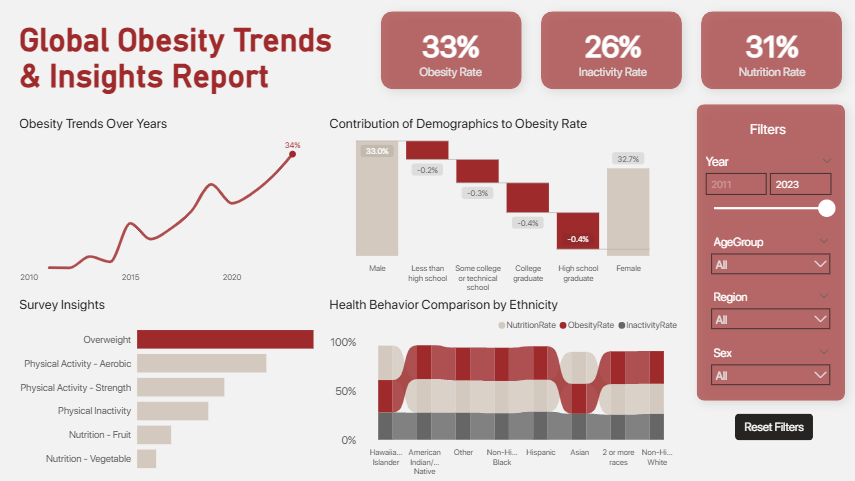

This screenshot's page, from the dashboard's own definition file:
{"tool":"powerbi","page":{"name":"Report","canvas":[1280,720],"ordinal":0},"visuals":[{"type":"shape","box":[1019.8,138,260.1,480.5],"z":0},{"type":"shape","box":[550.3,0.7,249,155.4],"z":1000},{"type":"shape","box":[788.7,0.7,249,155.4],"z":2000},{"type":"shape","box":[1027.2,0.7,249,155.4],"z":4000},{"type":"card","fields":{"Values":["_Measures.ObesityRate"]},"box":[584,29.2,179.2,98.3],"z":5000},{"type":"card","fields":{"Values":["_Measures.InactivityRate"]},"box":[825.1,29.2,179.2,98.3],"z":6000},{"type":"card","fields":{"Values":["_Measures.NutritionRate"]},"box":[1061.4,29.2,179.2,98.3],"z":7000},{"type":"lineChart","title":"Obesity Trends Over Years","fields":{"Y":["_Measures.ObesityRate","_Measures.MaxObesity"],"Category":["obesity_data.Year"]},"box":[27,174.5,461.5,256.9],"z":9000},{"type":"clusteredBarChart","title":"Survey Insights","fields":{"Category":["obesity_data.Category"],"Y":["Sum(obesity_data.Data_Value)"]},"box":[27,444.1,461.5,276],"z":10000},{"type":"waterfallChart","title":"Contribution of Demographics to Obesity Rate","fields":{"Category":["obesity_data.Sex"],"Y":["_Measures.ObesityRate"],"Breakdown":["obesity_data.Education"]},"box":[488.3,174.3,516.8,270.4],"z":11000},{"type":"slicer","fields":{"Values":["obesity_data.Region"]},"box":[1051.5,430.7,196.7,82.5],"z":12000},{"type":"slicer","fields":{"Values":["obesity_data.Sex"]},"box":[1051.5,513.2,196.7,82.5],"z":13000},{"type":"slicer","fields":{"Values":["obesity_data.Year"]},"box":[1040.7,226.2,214.1,161.8],"z":14000},{"type":"slicer","fields":{"Values":["obesity_data.AgeGroup"]},"box":[1051.5,348.2,196.7,82.5],"z":15000},{"type":"textbox","box":[1109,174.1,74.6,49.7],"z":16000},{"type":"textbox","box":[26.5,0,507.2,174.1],"z":18000},{"type":"ribbonChart","title":"Health Behavior Comparison by Ethnicity","fields":{"Category":["obesity_data.Race/Ethnicity"],"Y":["_Measures.NutritionRate","_Measures.ObesityRate","_Measures.InactivityRate"]},"box":[488.3,443.2,531.9,276.4],"z":19000},{"type":"actionButton","box":[1097.3,619.1,116.4,40],"z":21000}]}

Visuals, with their boxes in screenshot pixels (x1, y1, x2, y2), scaled from the page's 1280x720 canvas onto the 855x481 screenshot:
shape: 681, 92, 854, 413
shape: 368, 0, 534, 104
shape: 527, 0, 693, 104
shape: 686, 0, 852, 104
card - _Measures.ObesityRate: 390, 20, 510, 85
card - _Measures.InactivityRate: 551, 20, 671, 85
card - _Measures.NutritionRate: 709, 20, 829, 85
"Obesity Trends Over Years" lineChart: 18, 117, 326, 288
"Survey Insights" clusteredBarChart: 18, 297, 326, 480
"Contribution of Demographics to Obesity Rate" waterfallChart: 326, 116, 671, 297
slicer - obesity_data.Region: 702, 288, 834, 343
slicer - obesity_data.Sex: 702, 343, 834, 398
slicer - obesity_data.Year: 695, 151, 838, 259
slicer - obesity_data.AgeGroup: 702, 233, 834, 288
textbox: 741, 116, 791, 150
textbox: 18, 0, 356, 116
"Health Behavior Comparison by Ethnicity" ribbonChart: 326, 296, 681, 480
actionButton: 733, 414, 811, 440
